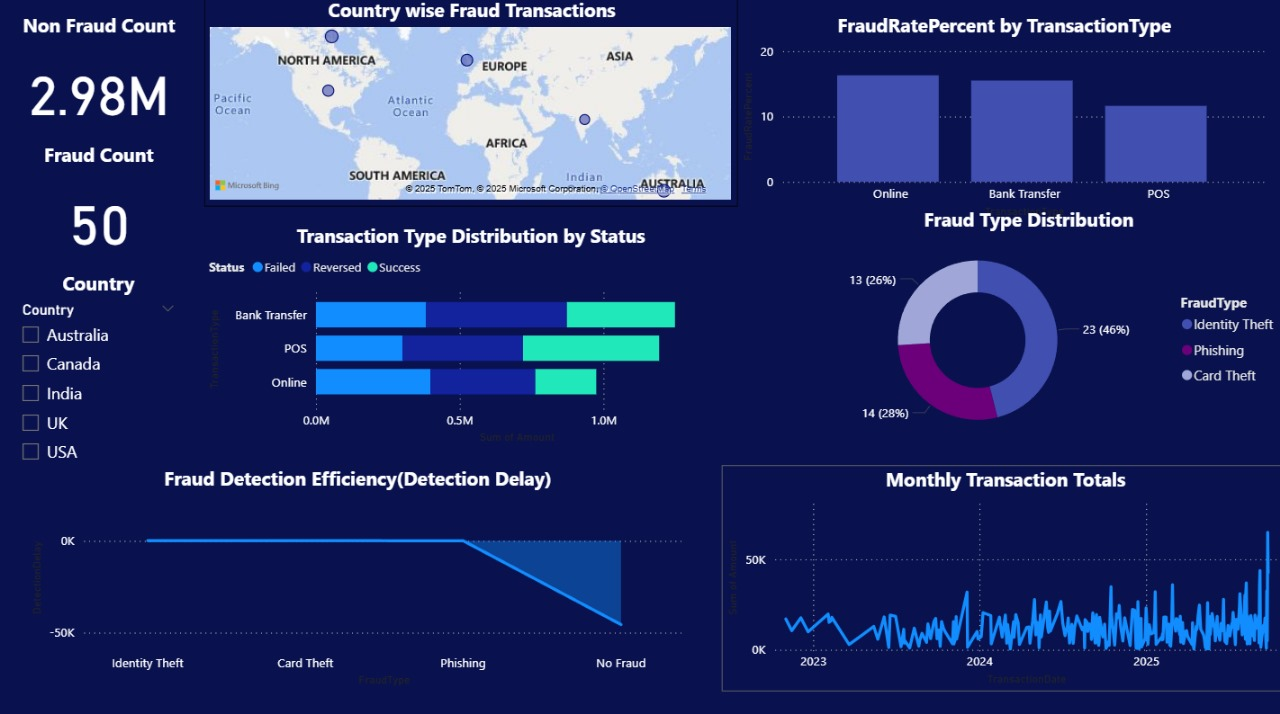

The dashboard page shown, as its layout file describes it:
{"tool":"powerbi","page":{"name":"Fraud & Risk Analysis","canvas":[1280,720],"ordinal":2},"visuals":[{"type":"columnChart","fields":{"Category":["project transactions.TransactionType"],"Y":["project customers.FraudRatePercent"]},"box":[736,16,528,208],"z":0},{"type":"donutChart","title":"Fraud Type Distribution","fields":{"Category":["project fraudflags.FraudType"],"Y":["project customers.FraudCount"]},"box":[768,208,512,240],"z":1000},{"type":"stackedAreaChart","title":"Fraud Detection Efficiency(Detection Delay)","fields":{"Category":["project fraudflags.FraudType"],"Y":["project customers.DetectionDelay"]},"box":[32,464,656,224],"z":2000},{"type":"map","title":"Country wise Fraud Transactions","fields":{"Category":["project customers.Country"],"Size":["project customers.FraudCount"]},"box":[208,0,528,208],"z":3000},{"type":"barChart","title":"Transaction Type Distribution by Status","fields":{"Category":["project transactions.TransactionType"],"Series":["project transactions.Status"],"Y":["Sum(project transactions.Amount)"]},"box":[208,224,528,224],"z":4000},{"type":"lineChart","title":"Monthly Transaction Totals","fields":{"Y":["Sum(project transactions.Amount)"],"Category":["project transactions.TransactionDate"]},"box":[720,464,560,224],"z":5000},{"type":"card","title":"Non Fraud Count","fields":{"Values":["project customers.NonFraudAmount"]},"box":[0,16,208,128],"z":6000},{"type":"card","title":"Fraud Count","fields":{"Values":["project customers.FraudCount"]},"box":[0,144,208,128],"z":7000},{"type":"slicer","title":"Country","fields":{"Values":["project customers.Country"]},"box":[16,272,176,208],"z":8000}]}

Visuals, with their boxes in screenshot pixels (x1, y1, x2, y2), scaled from the page's 1280x720 canvas onto the 1280x714 screenshot:
columnChart - project transactions.TransactionType x project customers.FraudRatePercent: Rect(736, 16, 1264, 222)
"Fraud Type Distribution" donutChart: Rect(768, 206, 1279, 444)
"Fraud Detection Efficiency(Detection Delay)" stackedAreaChart: Rect(32, 460, 688, 682)
"Country wise Fraud Transactions" map: Rect(208, 0, 736, 206)
"Transaction Type Distribution by Status" barChart: Rect(208, 222, 736, 444)
"Monthly Transaction Totals" lineChart: Rect(720, 460, 1279, 682)
"Non Fraud Count" card: Rect(0, 16, 208, 143)
"Fraud Count" card: Rect(0, 143, 208, 270)
"Country" slicer: Rect(16, 270, 192, 476)
